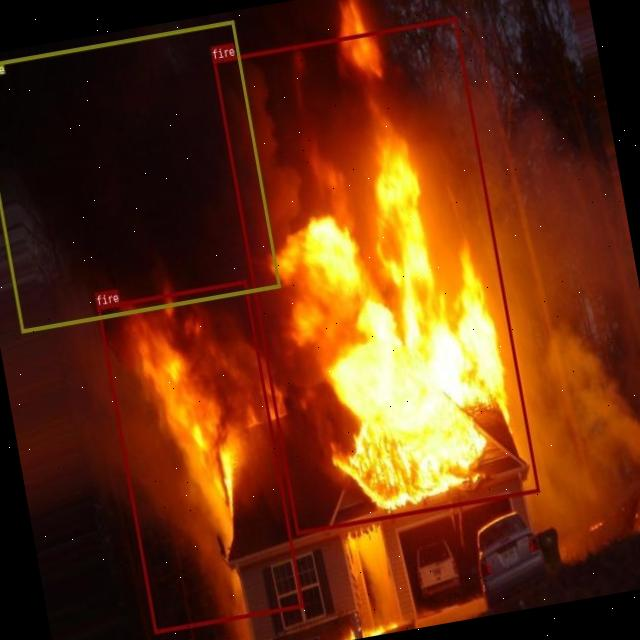fire: (212, 16, 539, 534), (96, 280, 302, 632)
smoke: (0, 18, 280, 332)
